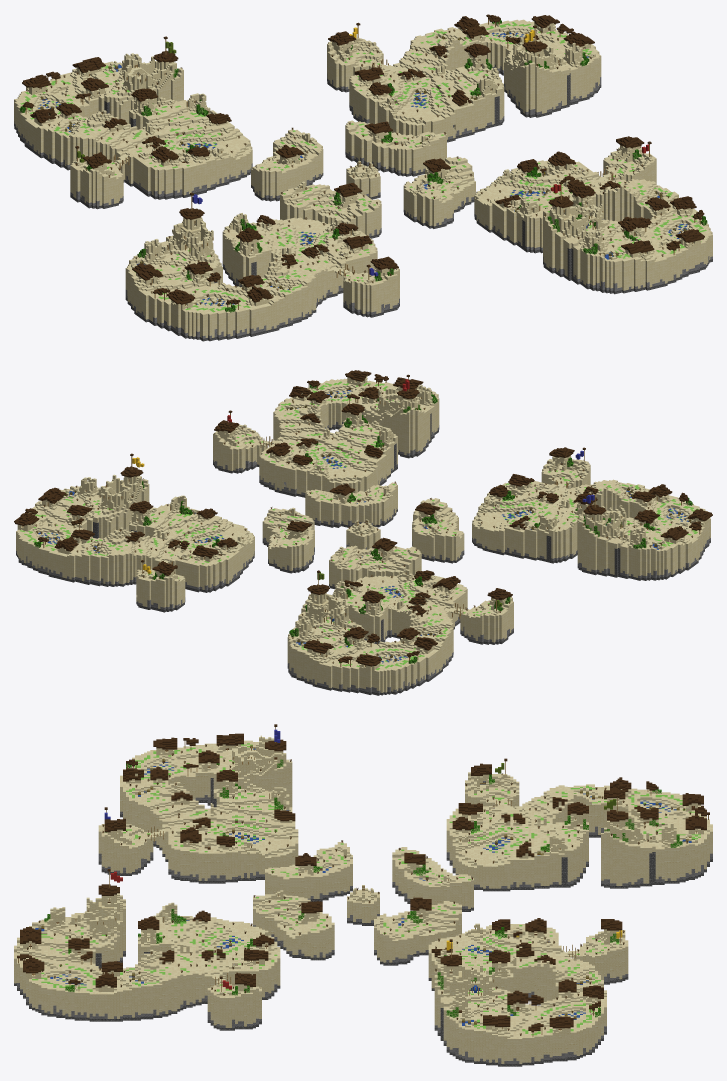
File: minecraft.obj
3 renders of one model, top to bottom at view 1: azimuth 30°, elevation 25°; view 2: azimuth 150°, elevation 25°; view 3: azimuth 270°, elevation 25°, orthographic. The views are drawn at different scales.
Size of the model in its own units: 231 by 31.5 by 231.
